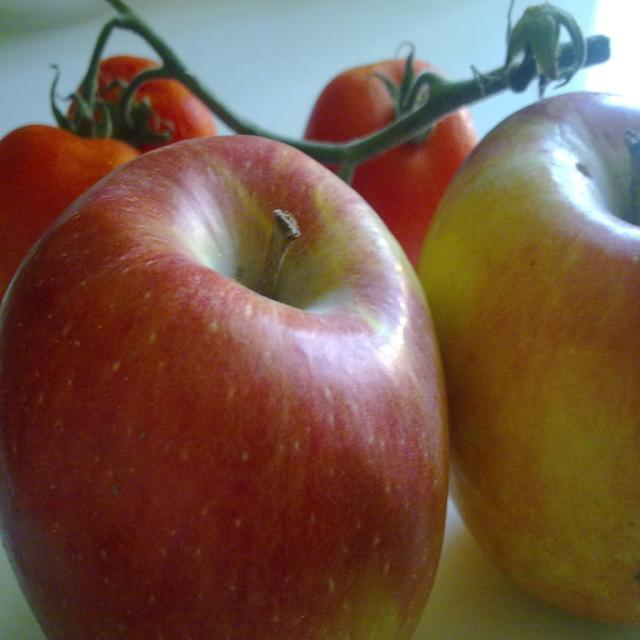Apple: (0, 132, 451, 638), (416, 90, 640, 626)
